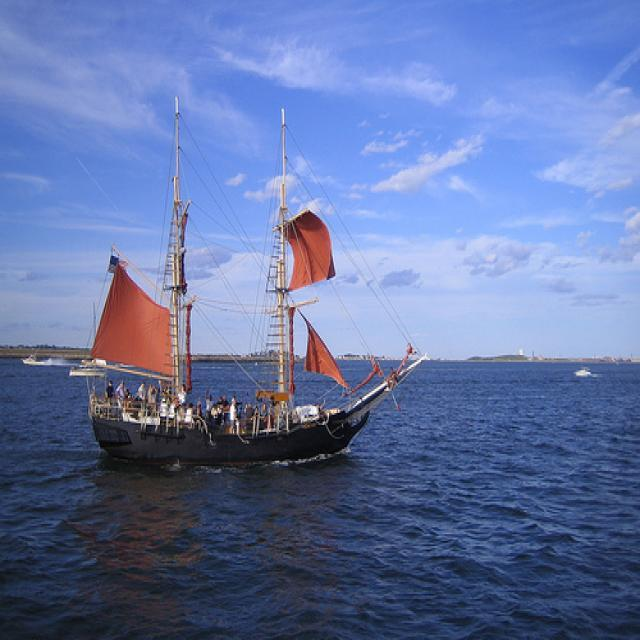Ship: (85, 92, 419, 466)
